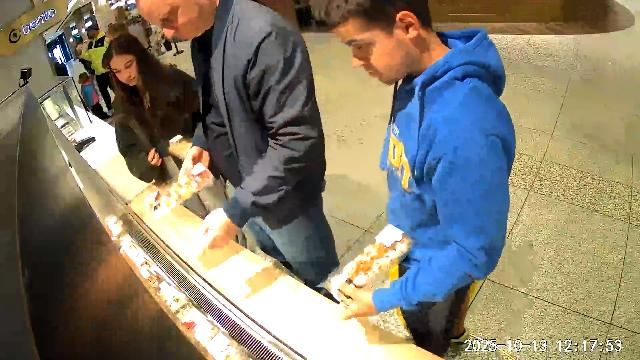sushi-box: (323, 223, 414, 305), (140, 161, 217, 222), (169, 135, 195, 160)
